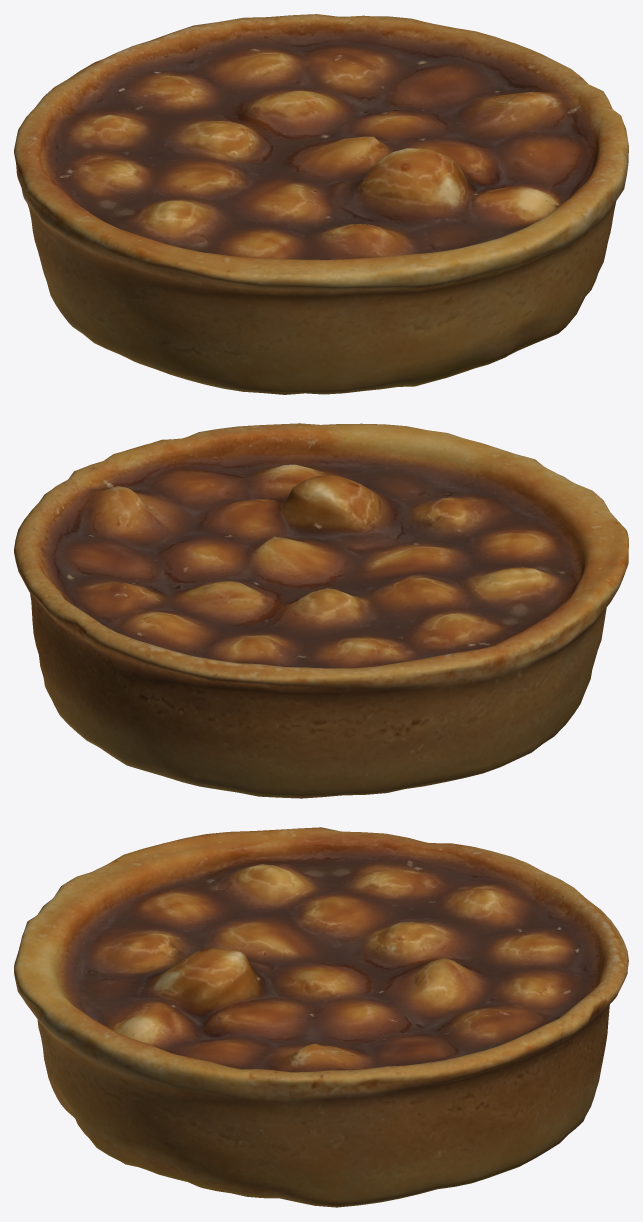
File: asset.glb
The picture shows the model from 3 angles, top to bottom: view 1: azimuth 30°, elevation 25°; view 2: azimuth 150°, elevation 25°; view 3: azimuth 270°, elevation 25°; orthographic projection.
Parts seen in each view (by area): view 1: caramel_hazelnut_tart_object_0; view 2: caramel_hazelnut_tart_object_0; view 3: caramel_hazelnut_tart_object_0.
Part boxes in pixels (x1=…): caramel_hazelnut_tart_object_0: x1=14, y1=14, x2=628, y2=394; caramel_hazelnut_tart_object_0: x1=14, y1=423, x2=628, y2=798; caramel_hazelnut_tart_object_0: x1=14, y1=827, x2=628, y2=1207.
Bounding box in the file's own units: 0.1036 × 0.0309 × 0.1047.
1 material, 1 textured.
